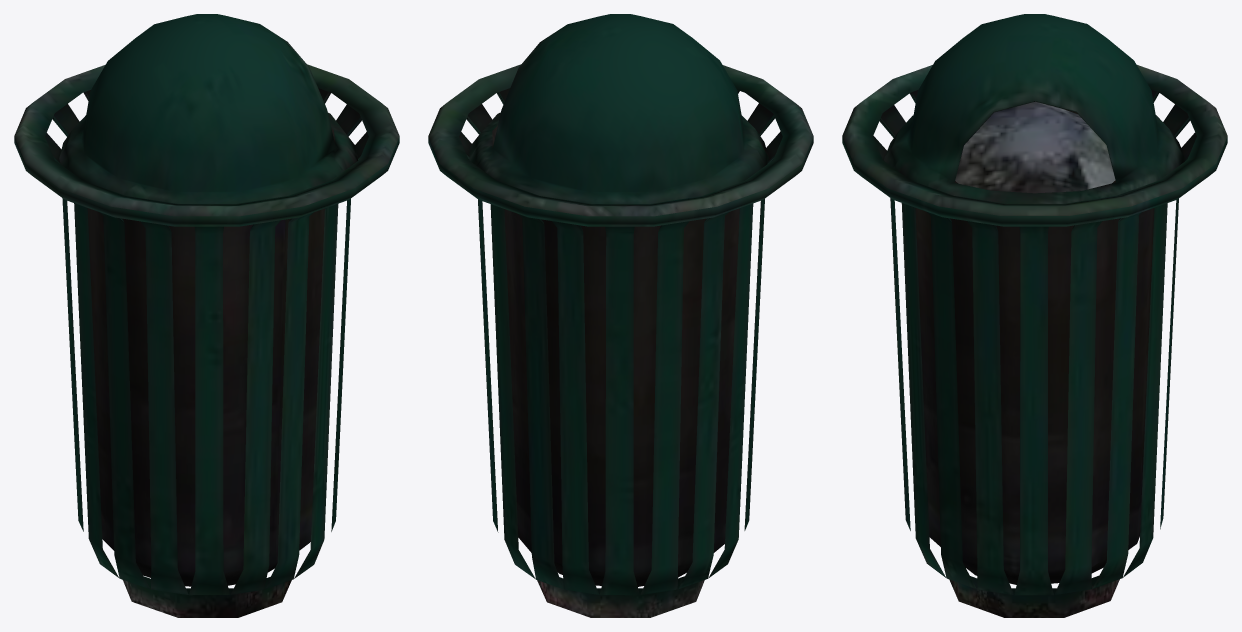
File: trashcan_indoor001a.glb
3 renders of one model, left to right at view 1: azimuth 30°, elevation 25°; view 2: azimuth 150°, elevation 25°; view 3: azimuth 270°, elevation 25°, orthographic.
Parts seen in each view (by area): view 1: 0_lobby_fixtures002a; view 2: 0_lobby_fixtures002a; view 3: 0_lobby_fixtures002a.
Part boxes in pixels (<box>): 0_lobby_fixtures002a: <box>14,14,399,617</box>; 0_lobby_fixtures002a: <box>428,14,813,617</box>; 0_lobby_fixtures002a: <box>842,14,1227,617</box>.
Bounding box in the file's own units: 0.8545 × 1.39 × 0.8677.
1 material, 1 textured.
